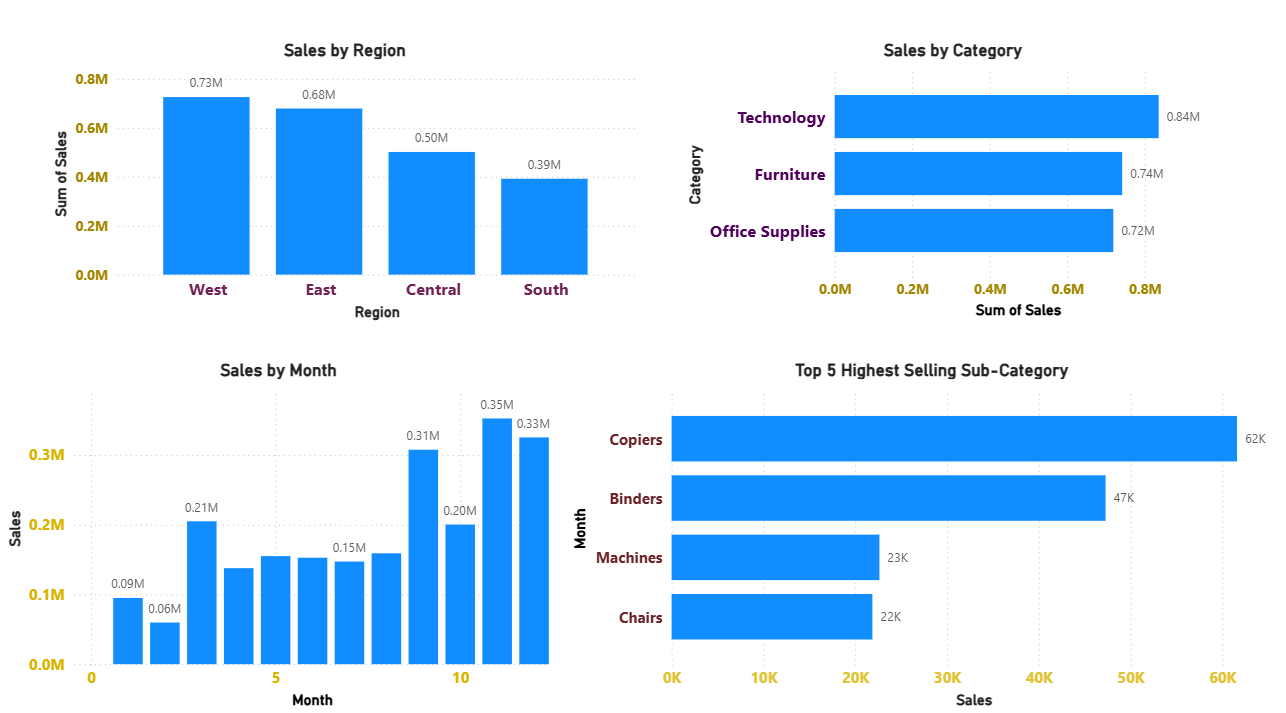

The page's visual inventory and layout, read from the dashboard file:
{"tool":"powerbi","page":{"name":"Page 1","canvas":[1280,720],"ordinal":0},"visuals":[{"type":"columnChart","title":"Sales by Region","fields":{"Category":["Super_store.Region"],"Y":["Sum(Super_store.Sales)"]},"box":[58.7,46.5,580.8,280],"z":0},{"type":"barChart","title":" Sales by Category","fields":{"Category":["Super_store.Category"],"Y":["Sum(Super_store.Sales)"]},"box":[678.7,46.5,530.7,277.6],"z":1000},{"type":"columnChart","title":"Sales by Month","fields":{"Category":["Super_store.month"],"Y":["Sum(Super_store.Sales)"]},"box":[13.5,359.5,541.7,346.1],"z":3000},{"type":"clusteredBarChart","title":"Top 5 Highest Selling Sub-Category","fields":{"Y":["Sum(Super_store.Sales)"],"Category":["Super_store.Sub-Category"]},"box":[566.2,359.5,714.1,346.1],"z":3001}]}

Visuals, with their boxes in screenshot pixels (x1, y1, x2, y2), scaled from the page's 1280x720 canvas onto the 1286x713 screenshot:
"Sales by Region" columnChart: select_region(59, 46, 642, 323)
" Sales by Category" barChart: select_region(682, 46, 1215, 321)
"Sales by Month" columnChart: select_region(14, 356, 558, 699)
"Top 5 Highest Selling Sub-Category" clusteredBarChart: select_region(569, 356, 1285, 699)
